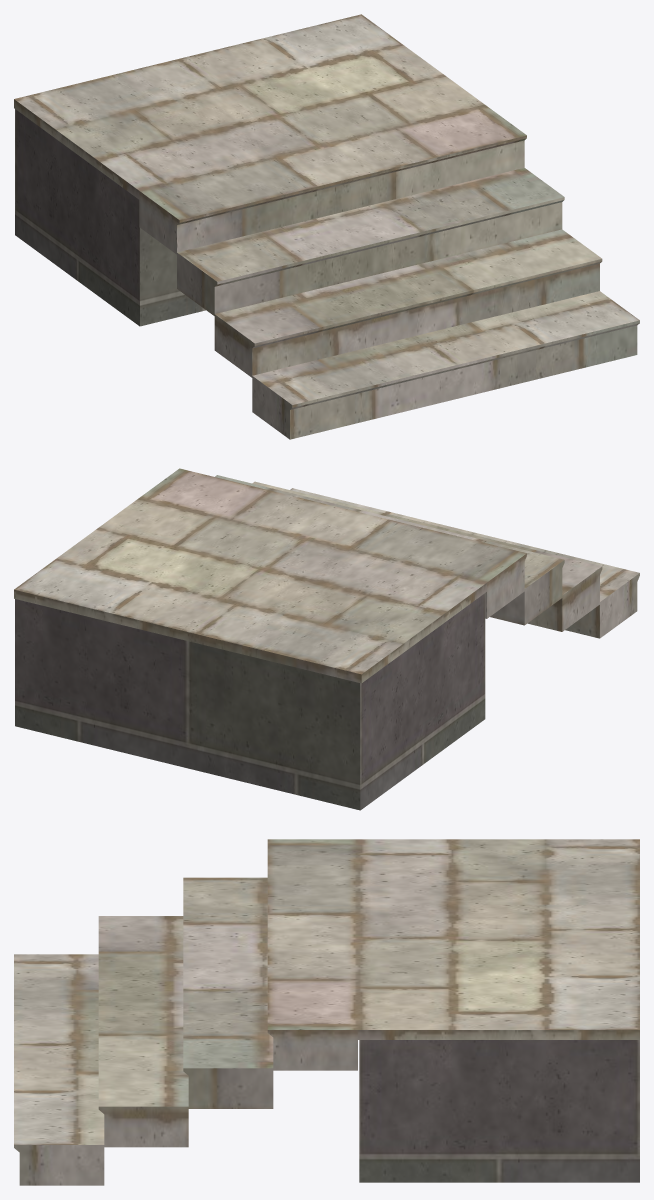
The model's file is back_steps.glb.
The picture shows the model from 3 angles, top to bottom: view 1: azimuth 30°, elevation 25°; view 2: azimuth 150°, elevation 25°; view 3: azimuth 270°, elevation 25°; orthographic projection. The views are drawn at different scales.
Parts seen in each view (by area): view 1: back_steps_stone2, back_steps_plinth; view 2: back_steps_stone2, back_steps_plinth; view 3: back_steps_stone2, back_steps_plinth.
Boxes of the visible parts, x1=… form: back_steps_stone2: x1=14, y1=14, x2=639, y2=439; back_steps_plinth: x1=15, y1=109, x2=205, y2=326; back_steps_stone2: x1=14, y1=468, x2=639, y2=683; back_steps_plinth: x1=15, y1=593, x2=485, y2=810; back_steps_stone2: x1=14, y1=839, x2=639, y2=1185; back_steps_plinth: x1=359, y1=1040, x2=639, y2=1182.
Size of the model in its own units: 1.6 by 0.61 by 2.22.
2 materials, 2 textured.
